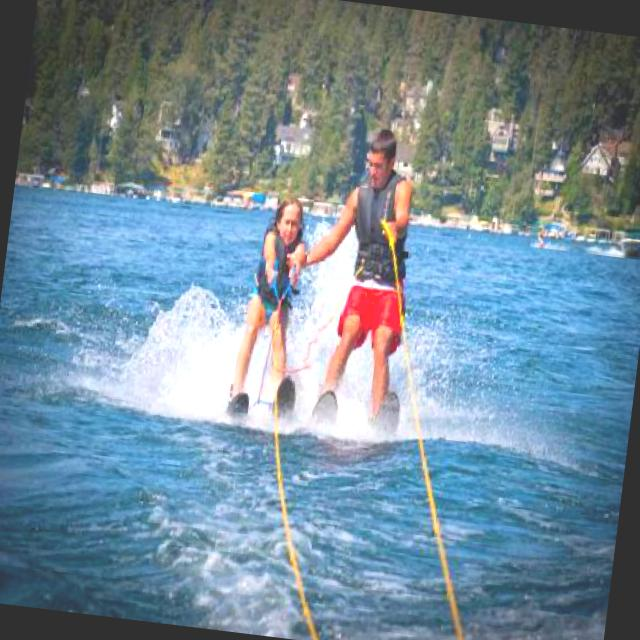Person: (279, 118, 431, 426), (228, 190, 312, 406), (537, 228, 547, 245)
